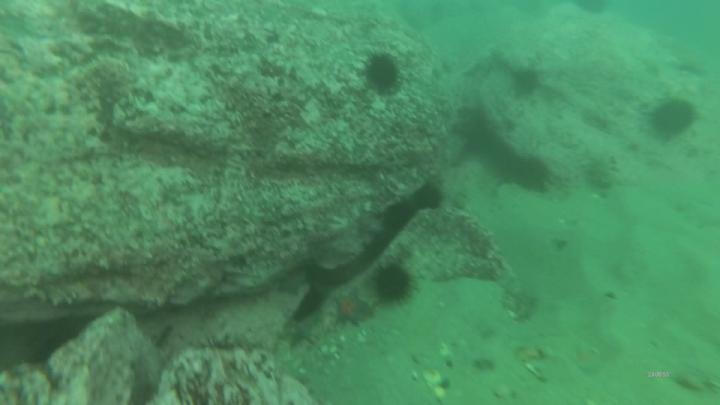echinus: (651, 93, 702, 142), (371, 257, 419, 307), (365, 49, 407, 95), (510, 64, 545, 97), (384, 201, 414, 235), (416, 184, 444, 214)
starfish: (330, 286, 375, 332)
